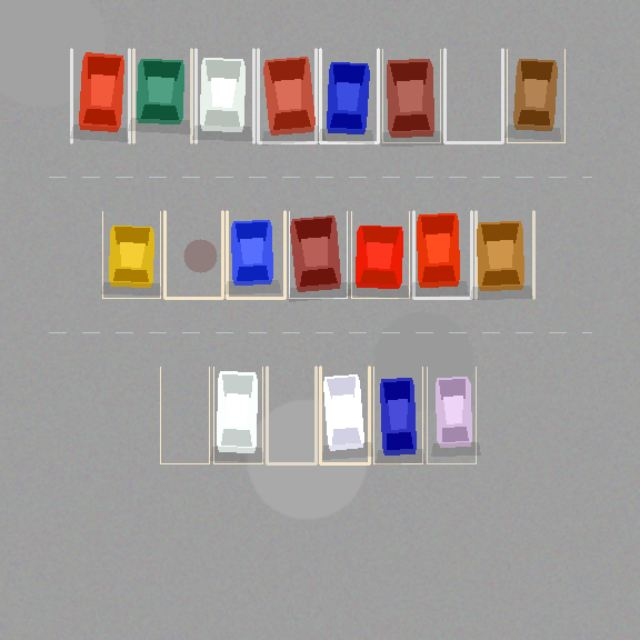space-empty: (444, 49, 502, 142), (164, 211, 222, 298), (160, 367, 209, 463), (267, 367, 316, 463)
space-occupied: (71, 49, 129, 142), (133, 49, 191, 142), (258, 49, 316, 142), (320, 49, 378, 142), (382, 49, 440, 142), (196, 49, 253, 142), (507, 49, 564, 142), (102, 211, 160, 298), (289, 211, 347, 298), (351, 211, 409, 298), (413, 211, 471, 298), (227, 211, 284, 298), (476, 211, 533, 298), (213, 367, 262, 463), (320, 367, 369, 463), (373, 367, 422, 463), (427, 367, 476, 463)
